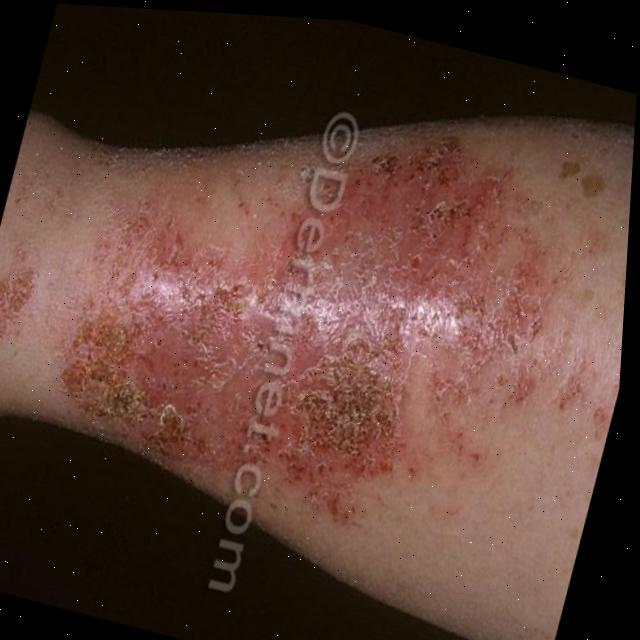Eczema: (33, 33, 638, 567)
